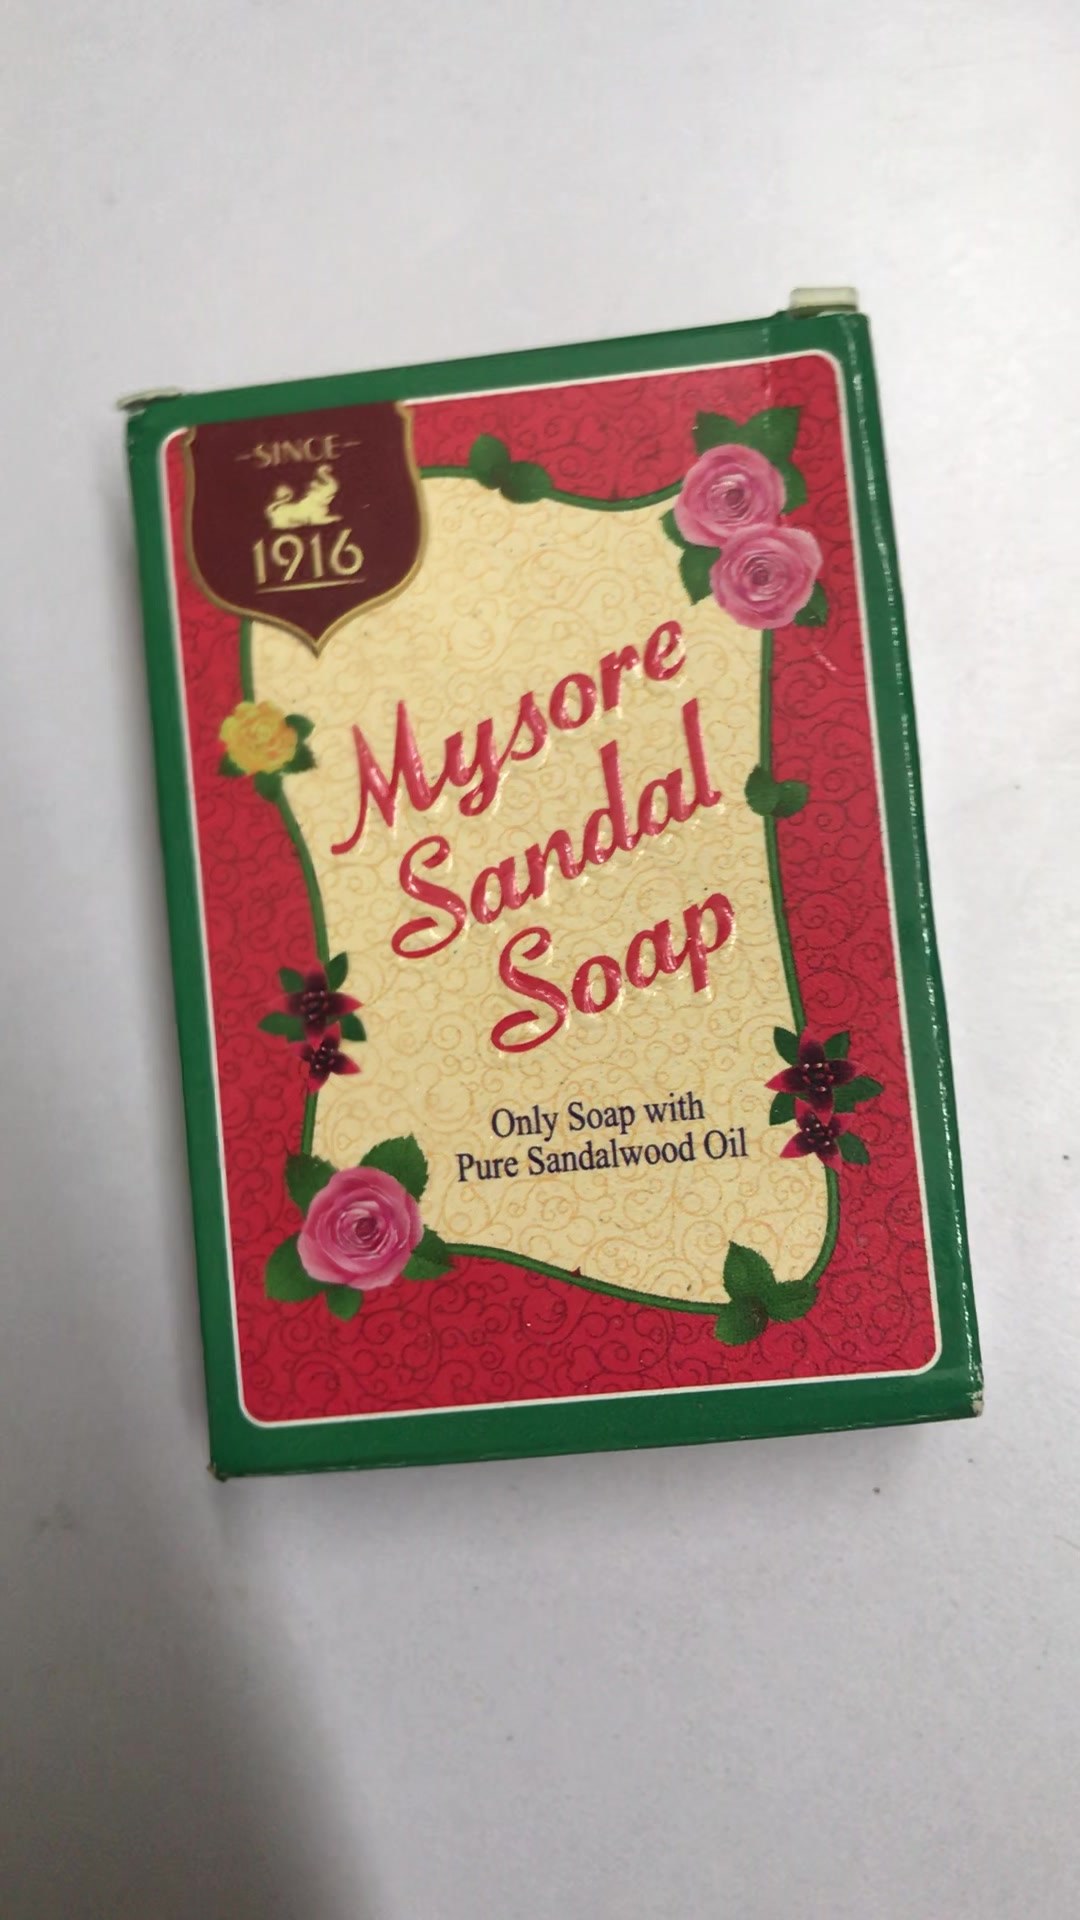mysore sandal soap: (132, 324, 988, 1469)
